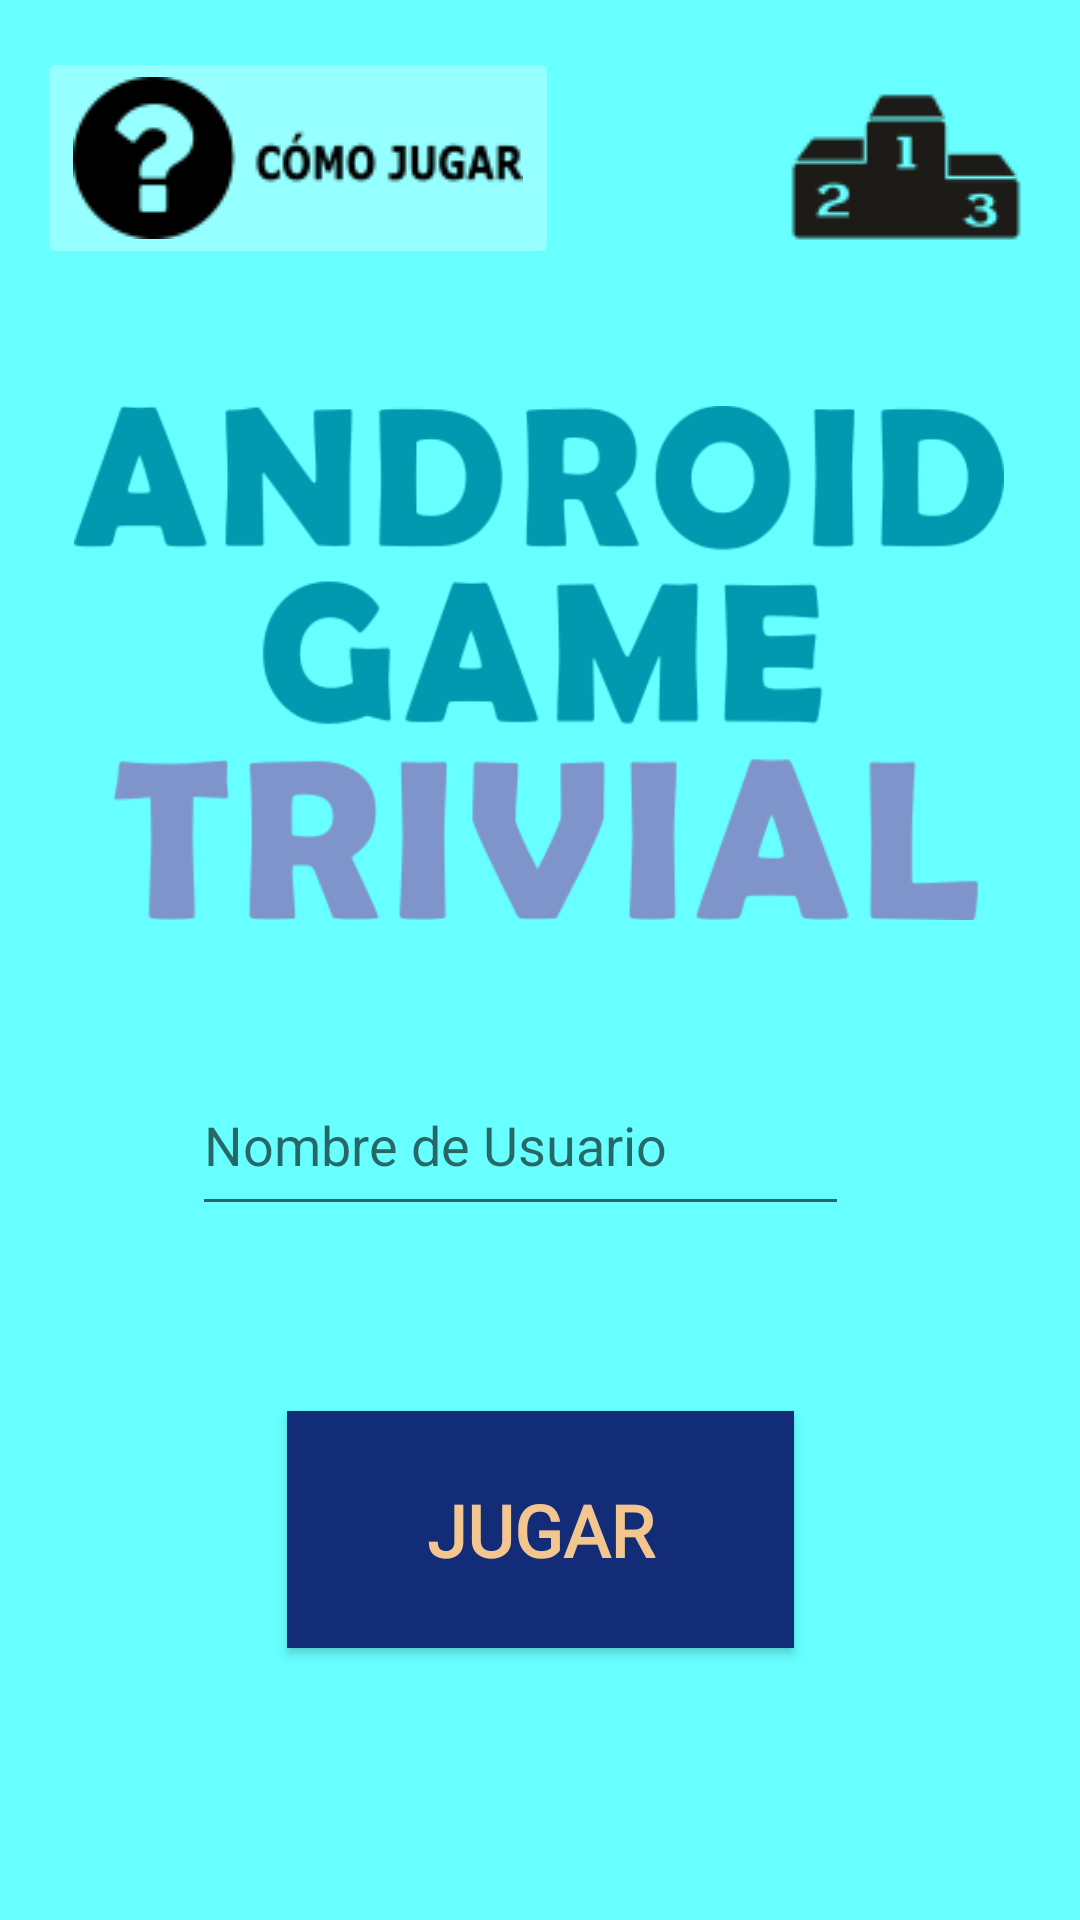

Named icons in this screenshot (1080*1920) and their bounding boxes, {"x1": x1, "y1": y1, "x2": x2, "y2": y2}:
coparanking: {"x1": 791, "y1": 94, "x2": 1021, "y2": 240}
